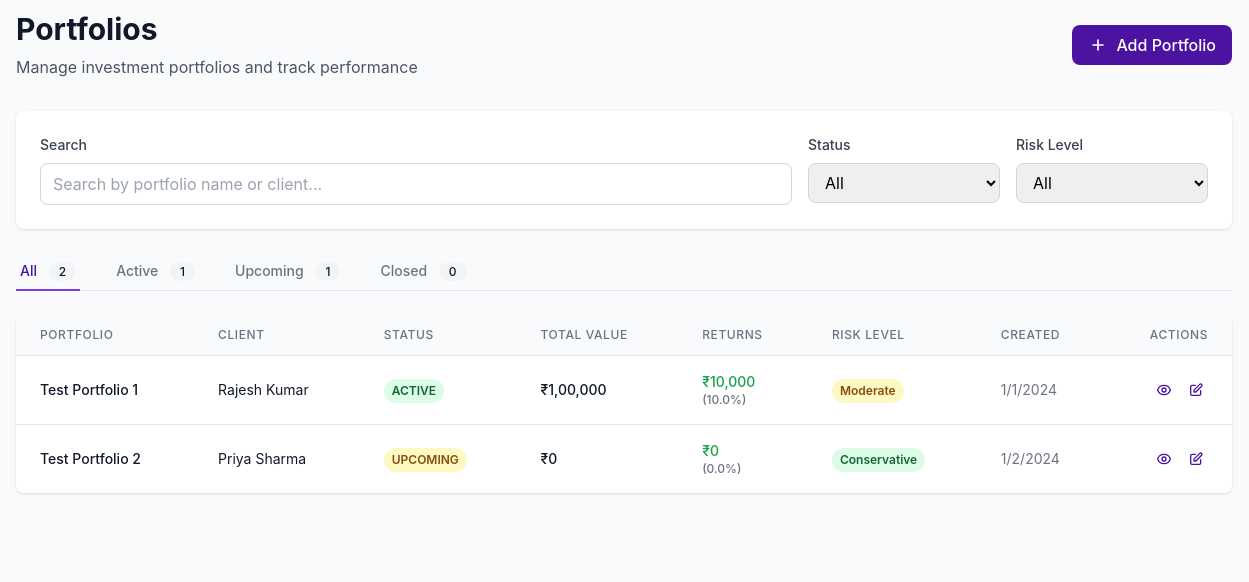
Test case: PortfolioList › shows empty state when no portfolios match filters
The width and height of the screenshot is (1249, 582).
Type "NonExistent" into the field labelled "Search". click: {"x": 416, "y": 184}
box: [40,163,792,205]
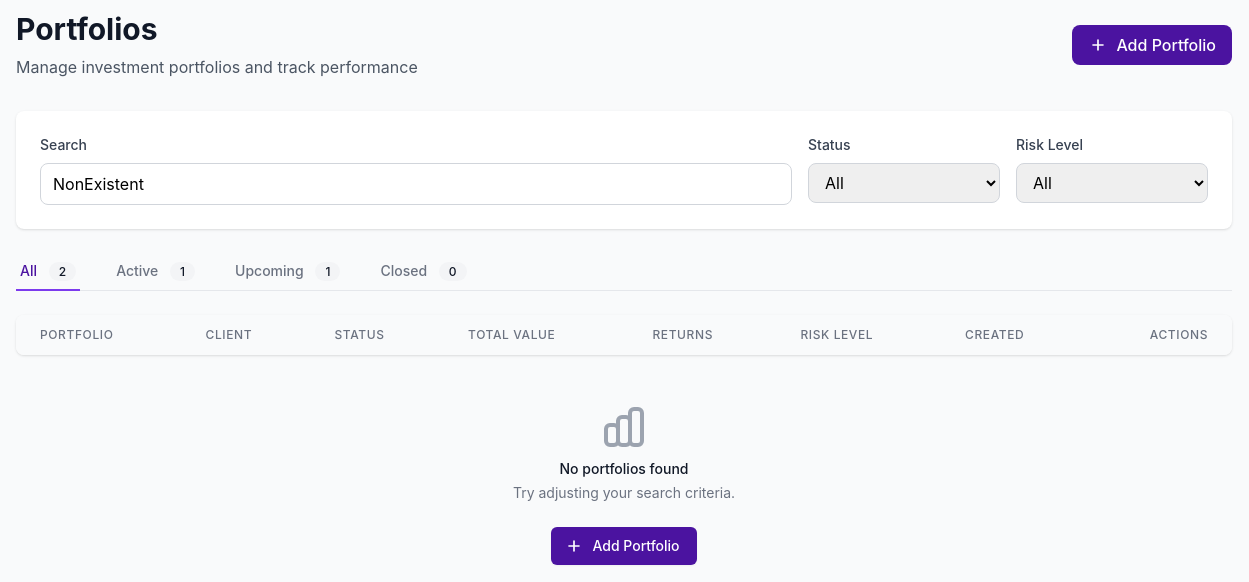
expect the text "No portfolios found" is shown: met, box [560,460,688,477]
